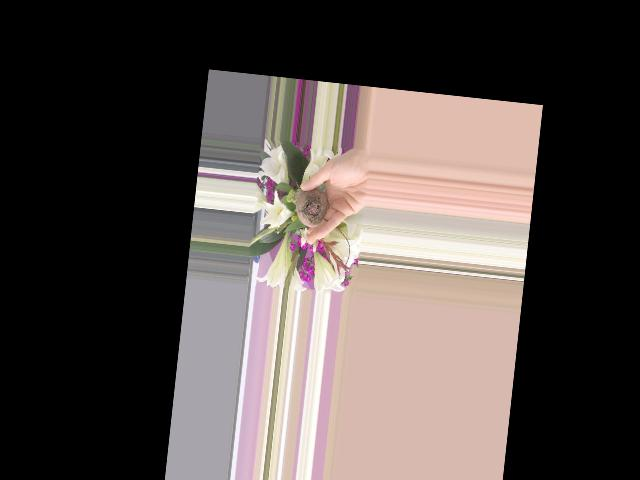beet: (294, 186, 330, 230)
